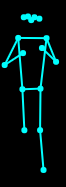mountain: (1, 11, 61, 173)
